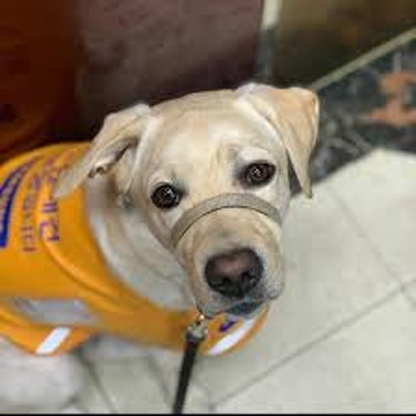guide-dog: (1, 79, 326, 416)
